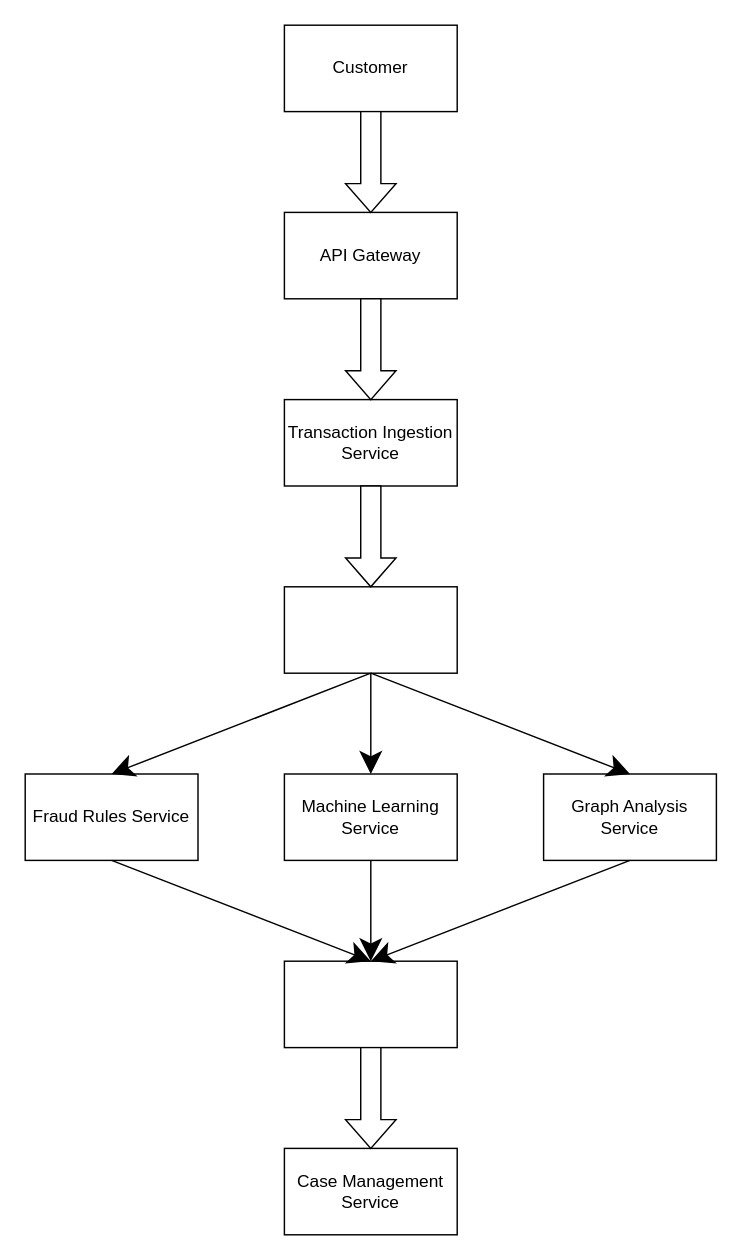
Image size: 742x1260. Some labels were removed from this diagram. The box of each missing label's shape, as (x1, y1, x2, y2) in pixels:
Kafka Event Bus: (283, 585, 457, 673)
Risk Assessment Service: (283, 960, 457, 1048)
